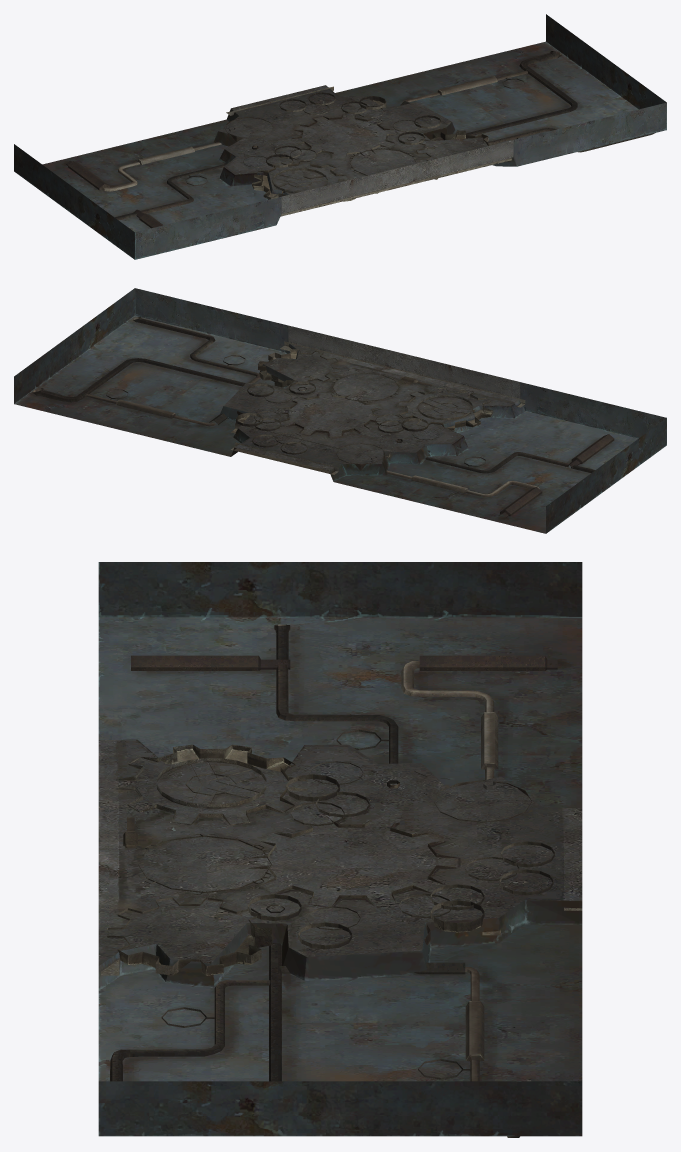
The model's file is huodong_fuben_662_jxqiang02.obj.
3 views of the same model, one above another, from view 1: azimuth 30°, elevation 25°; view 2: azimuth 150°, elevation 25°; view 3: azimuth 270°, elevation 25° (orthographic). The views are drawn at different scales.
Visible parts, largest first — view 1: huodong_fuben_662_jxqiang02; view 2: huodong_fuben_662_jxqiang02; view 3: huodong_fuben_662_jxqiang02.
Boxes of the visible parts, x1,y1,x2,y2 form: huodong_fuben_662_jxqiang02: (14,14,666,259); huodong_fuben_662_jxqiang02: (14,288,666,533); huodong_fuben_662_jxqiang02: (98,562,582,1137).
Size of the model in its own units: 5237 by 333 by 2062.
9 materials, 9 textured.
